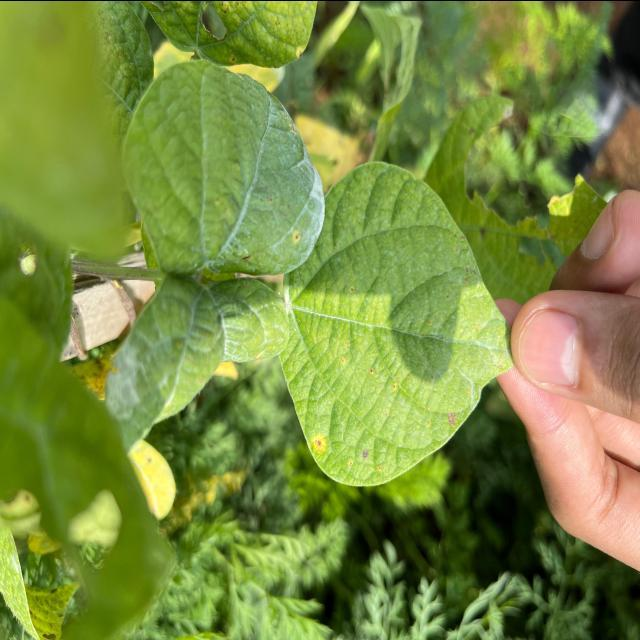embun tepung: (251, 128, 370, 270)
